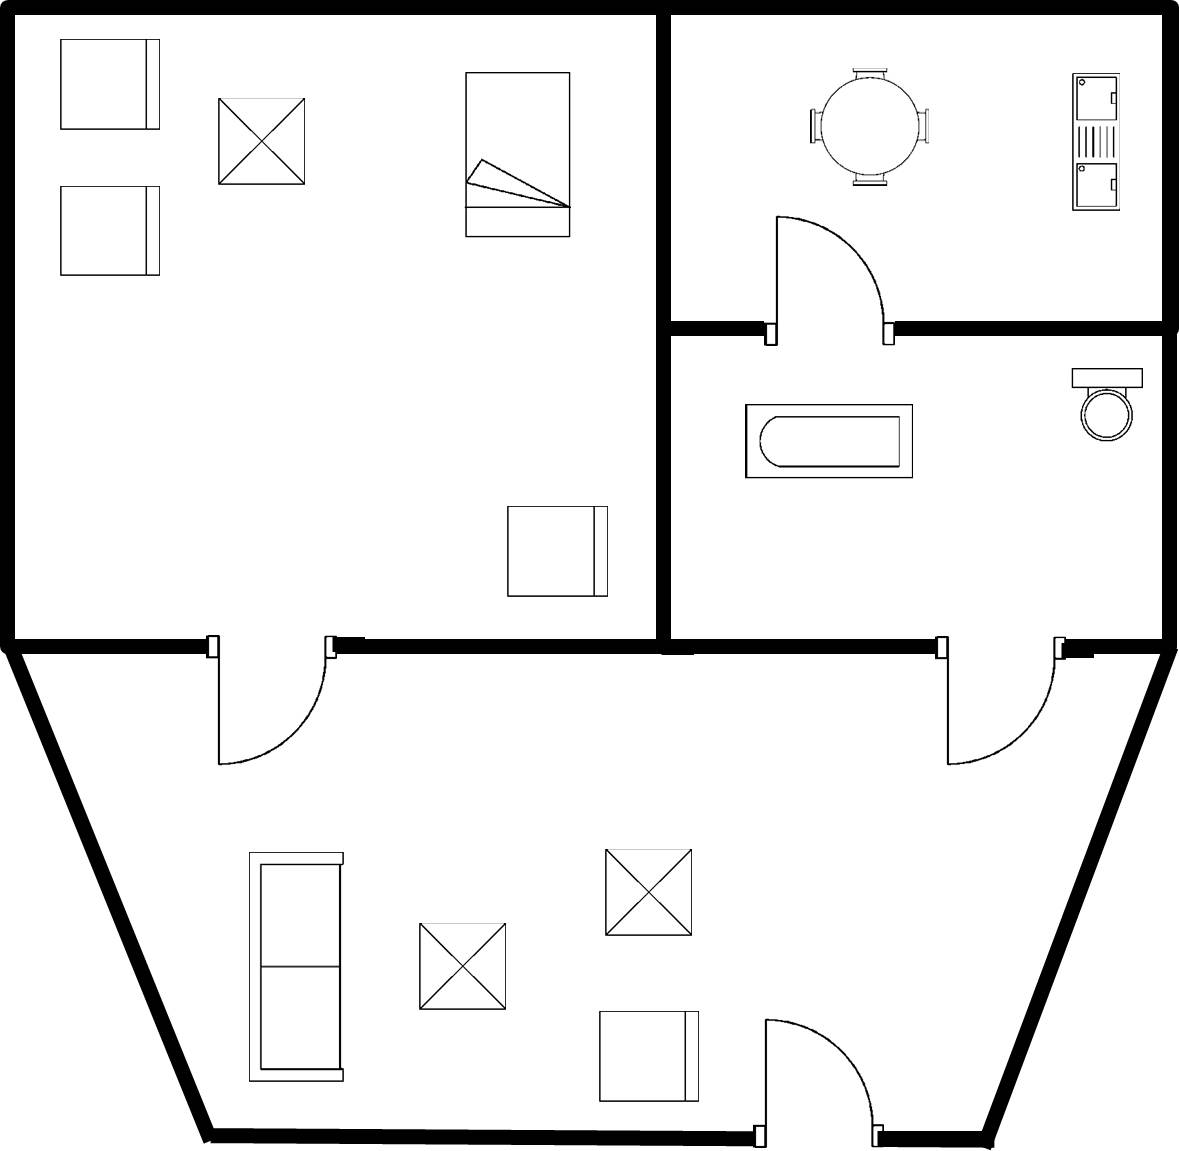bed: (458, 62, 580, 247)
coffee_table: (597, 835, 699, 943), (411, 913, 513, 1017), (208, 93, 313, 193)
large_sink: (1065, 361, 1150, 451)
large_sofa: (237, 841, 351, 1091)
round_table: (802, 59, 940, 196)
small_sofa: (591, 1003, 707, 1113), (501, 498, 615, 608), (51, 34, 166, 139), (50, 179, 167, 283)
tub: (737, 396, 921, 492)
twin_sink: (1062, 66, 1129, 221)
